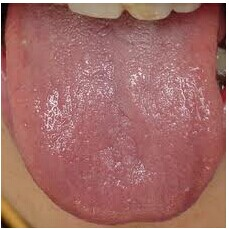baitaishe: (5, 4, 226, 225)
hongshe: (5, 4, 226, 225)
